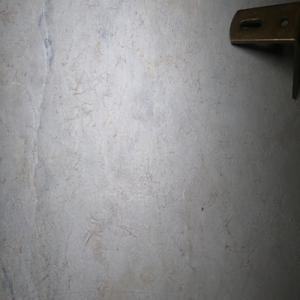MetalPart: (229, 0, 300, 100)
